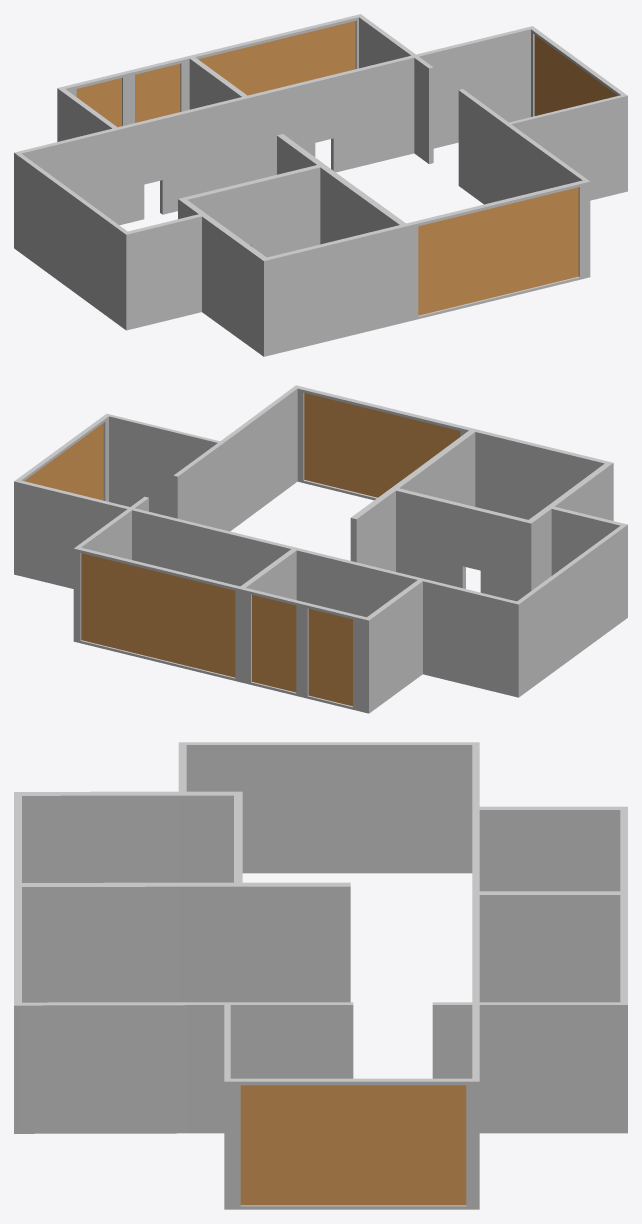
The model's file is offic_space_higher_ceiling.fbx.
3 views of the same model, one above another, from view 1: azimuth 30°, elevation 25°; view 2: azimuth 150°, elevation 25°; view 3: azimuth 270°, elevation 25° (orthographic). The views are drawn at different scales.
Visible parts, largest first — view 1: Cube.001, Plane.005, Plane.001, Plane.004, Plane.003, Plane.002; view 2: Cube.001, Plane.001, Plane.005, Plane.002, Plane.003, Plane.004; view 3: Cube.001, Plane.004.
Part boxes in pixels (x1,y1,x2,y2): Cube.001: (14,14,627,356); Plane.005: (418,187,578,315); Plane.001: (198,21,355,95); Plane.004: (534,35,617,115); Plane.003: (135,64,180,122); Plane.002: (76,78,121,127); Cube.001: (14,385,627,713); Plane.001: (81,553,235,677); Plane.005: (304,393,460,497); Plane.002: (308,608,352,706); Plane.003: (252,595,296,692); Plane.004: (24,423,103,500); Cube.001: (14,742,627,1209); Plane.004: (240,1085,466,1205).
Bounding box in the file's own units: 3557 × 627 × 2720.
